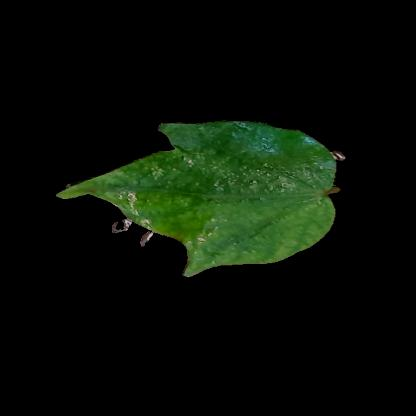curl_stage1: (120, 190, 232, 236), (247, 199, 325, 247)
healthy: (191, 128, 296, 193)
